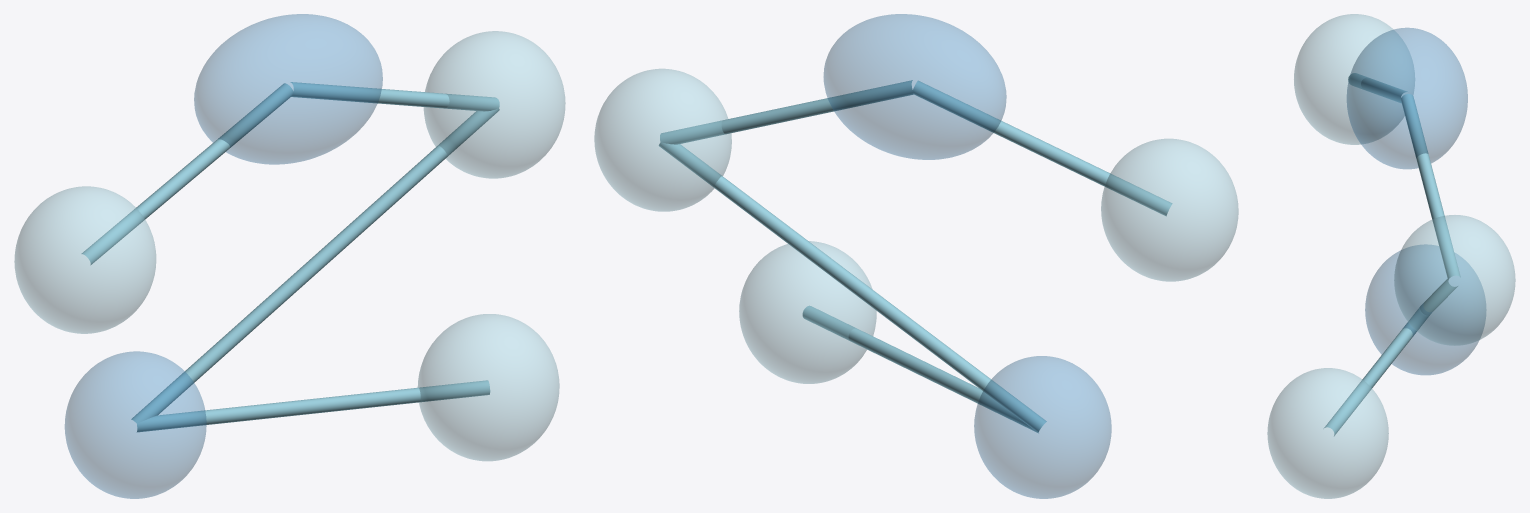
The picture shows the model from 3 angles, left to right: view 1: azimuth 30°, elevation 25°; view 2: azimuth 150°, elevation 25°; view 3: azimuth 270°, elevation 25°; orthographic projection. The views are drawn at different scales.
Visible parts, largest first — view 1: constellation-node-1, constellation-node-3, constellation-node-0, constellation-node-4, constellation-node-2, constellation-edge-3, constellation-edge-4, constellation-edge-1, constellation-edge-2; view 2: constellation-node-1, constellation-node-3, constellation-node-0, constellation-node-2, constellation-node-4, constellation-edge-3, constellation-edge-1, constellation-edge-2, constellation-edge-4; view 3: constellation-node-1, constellation-node-2, constellation-node-4, constellation-node-0, constellation-node-3, constellation-edge-2, constellation-edge-4, constellation-edge-1, constellation-edge-3.
Boxes of the visible parts, x1,y1,x2,y2 form: constellation-node-1: (194,14,382,164); constellation-node-3: (65,351,206,498); constellation-node-0: (14,186,155,333); constellation-node-4: (418,314,559,460); constellation-node-2: (424,31,565,178); constellation-edge-3: (131,108,499,423); constellation-edge-4: (137,380,490,432); constellation-edge-1: (81,83,293,264); constellation-edge-2: (290,82,499,111); constellation-node-1: (823,14,1006,159); constellation-node-3: (974,356,1111,498); constellation-node-0: (1101,139,1238,281); constellation-node-2: (594,69,731,211); constellation-node-4: (739,241,876,383); constellation-edge-3: (659,141,1046,432); constellation-edge-1: (912,80,1172,216); constellation-edge-2: (660,80,913,144); constellation-edge-4: (802,305,1038,433); constellation-node-1: (1347,28,1467,168); constellation-node-2: (1394,215,1515,345); constellation-node-4: (1267,368,1388,498); constellation-node-0: (1294,14,1414,144); constellation-node-3: (1365,244,1485,374); constellation-edge-2: (1401,94,1460,280); constellation-edge-4: (1324,307,1429,435); constellation-edge-1: (1348,73,1407,103); constellation-edge-3: (1420,279,1457,314).
Bounding box in the file's own units: 2.28 × 1.64 × 0.94.
